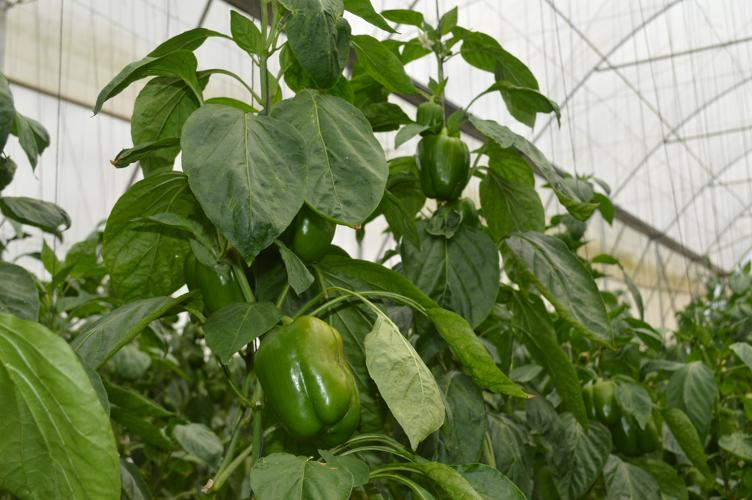BellPepper: (254, 324, 364, 447), (179, 250, 253, 320), (412, 125, 474, 203), (276, 203, 336, 261), (613, 408, 664, 457), (579, 375, 619, 425)
